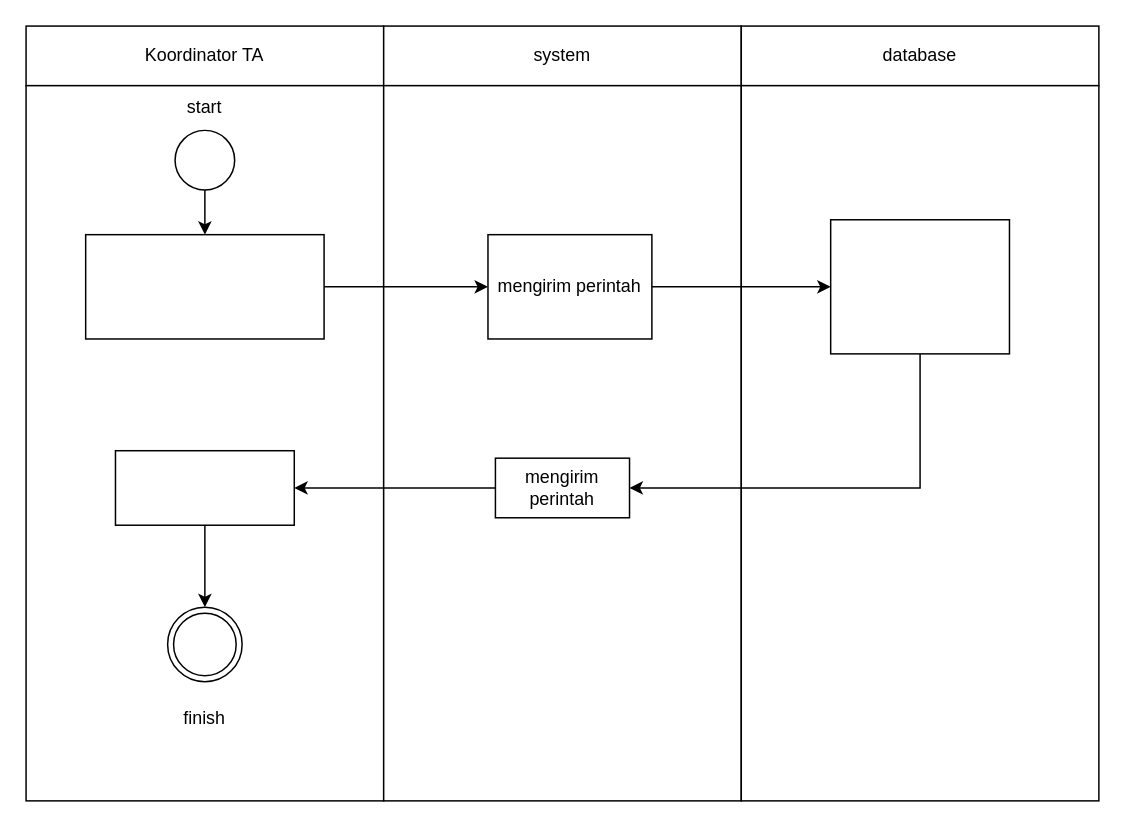
The diagram is 1125 pixels wide and 827 high, and some of its shapes have lost their labels. Here are the shapes that lost their labels. From the top down, the box of each, then its label:
(84, 233, 324, 339): klik icon bagikan ulang konten
(829, 218, 1009, 354): menambahkan data dan memberi berintah menampilkan jumlah data membagikan ulang
(114, 449, 294, 525): menampilkan konten komentar yang telah ditambahkan
